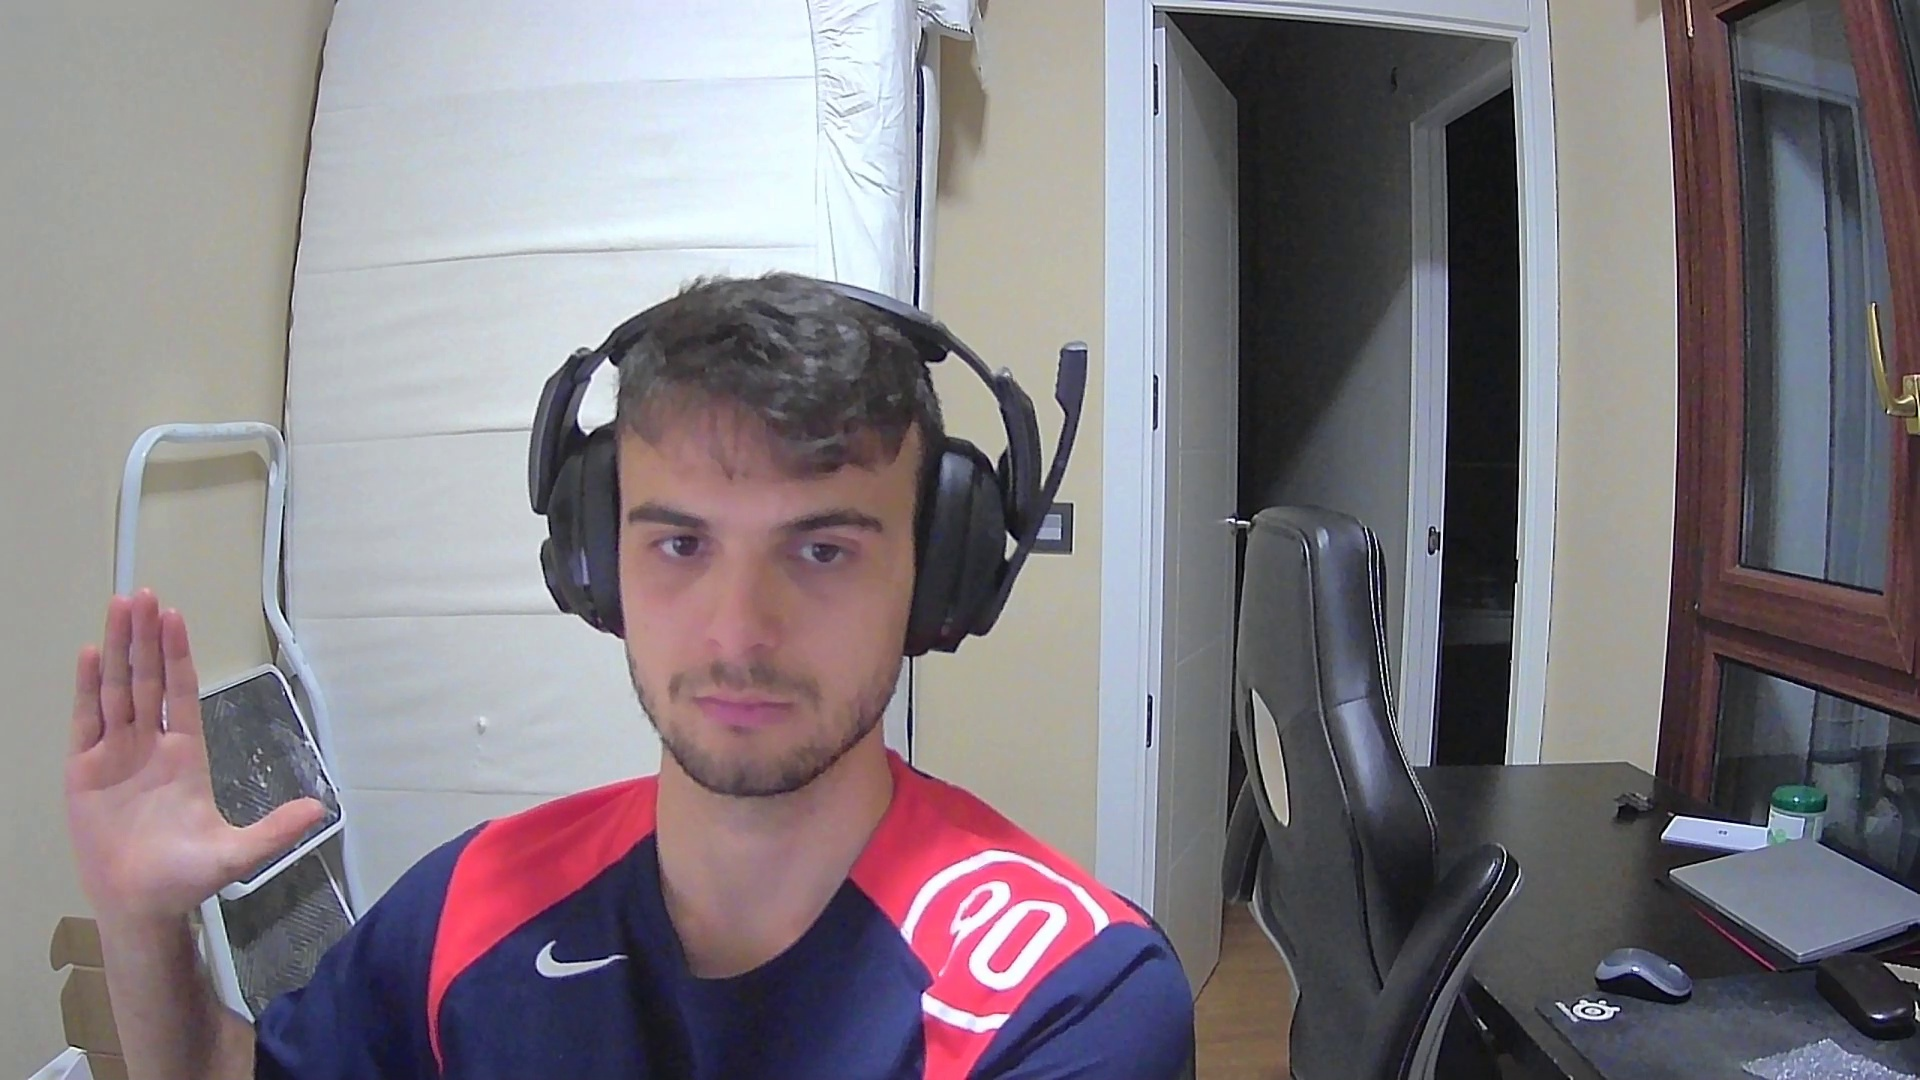Palm: (74, 584, 327, 913)
